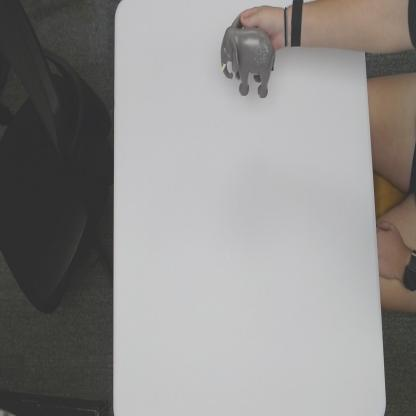Arm: (304, 0, 367, 53)
Elephant: (219, 12, 276, 99)
Hand: (238, 3, 289, 52)
